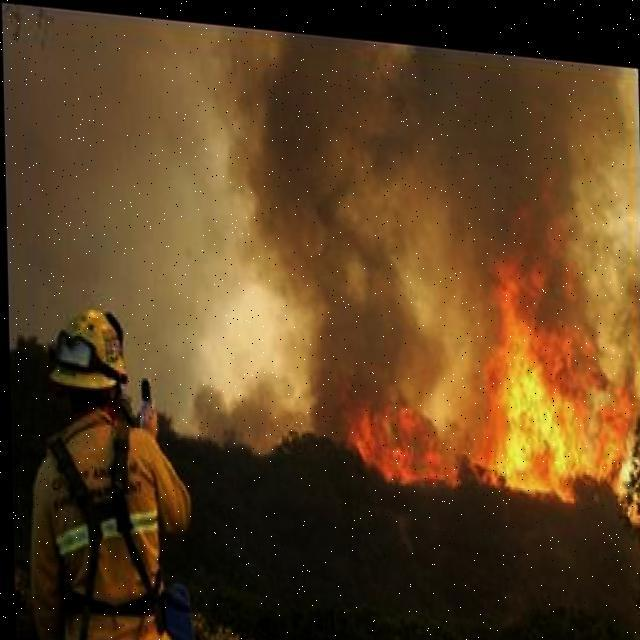Fire: (342, 212, 636, 499)
